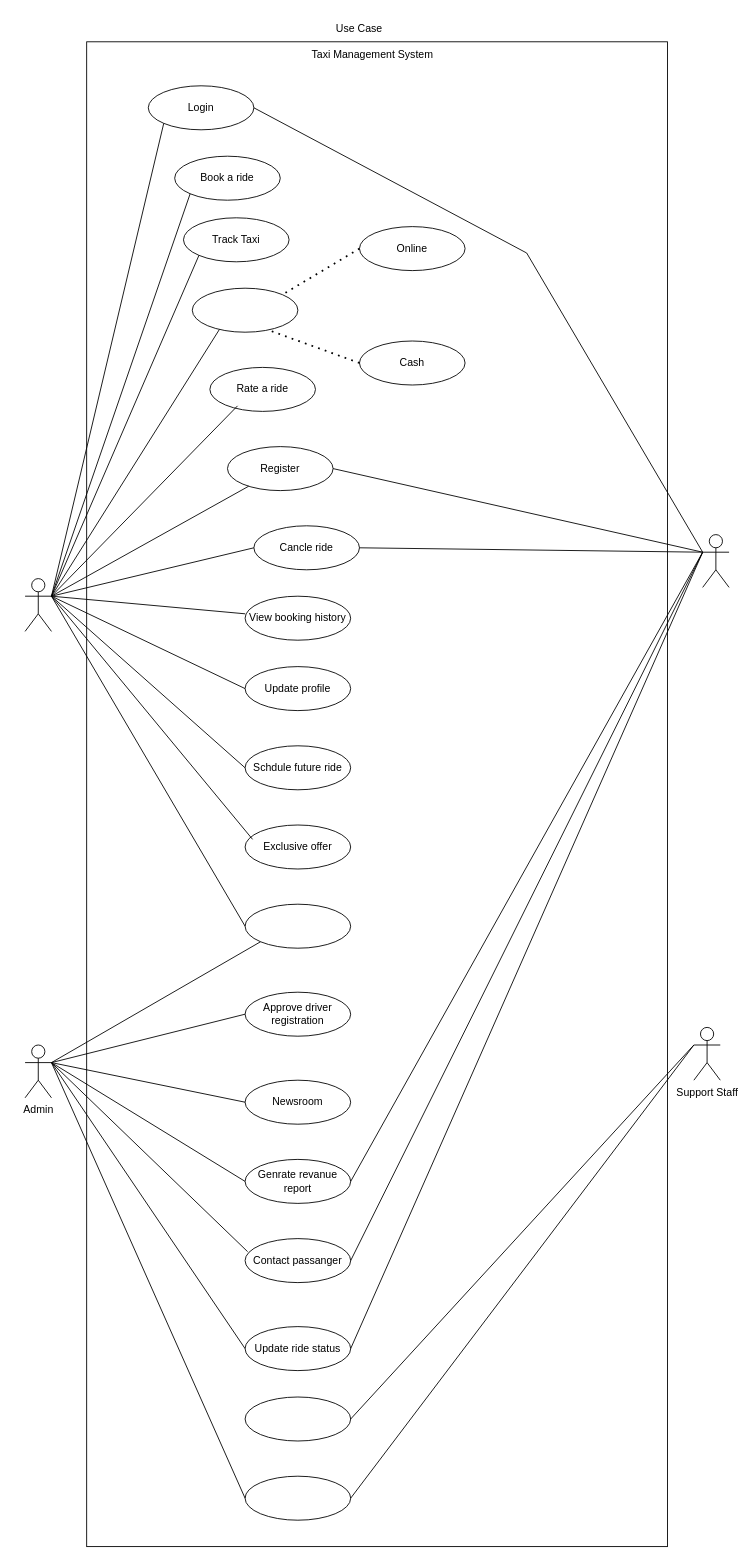
Image size: 752x1562. Some labels were removed from this diagram. The centre of each missing label's shape, as x and y in pixels:
Contact driver: point 297,925
Customer: point 37,604
Driver: point 715,560
Handle complanits: point 297,1418
Payment: point 244,309
Proess to refund: point 297,1497
